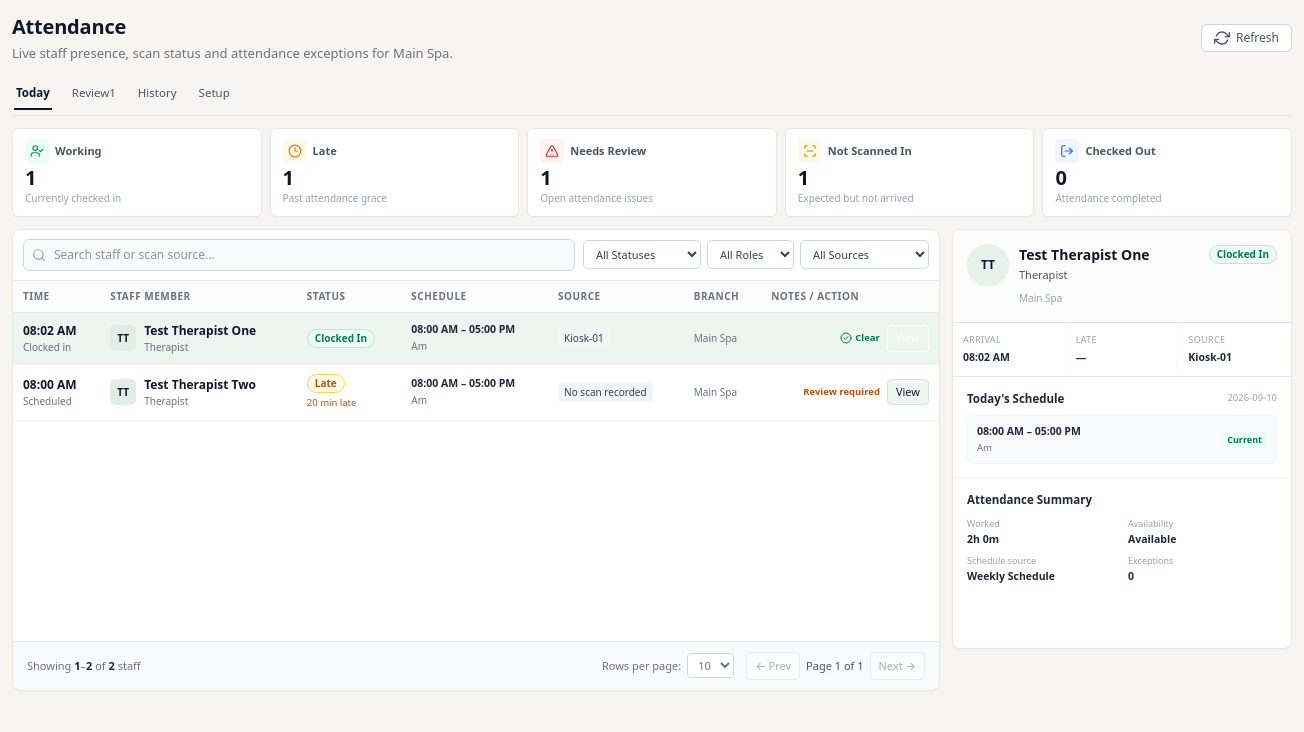
Test: Attendance Today workspace › updates the persistent inspector without navigating away
Click the button with aria-label "View Test Therapist Two" at (908, 392), box [887,379,929,405]
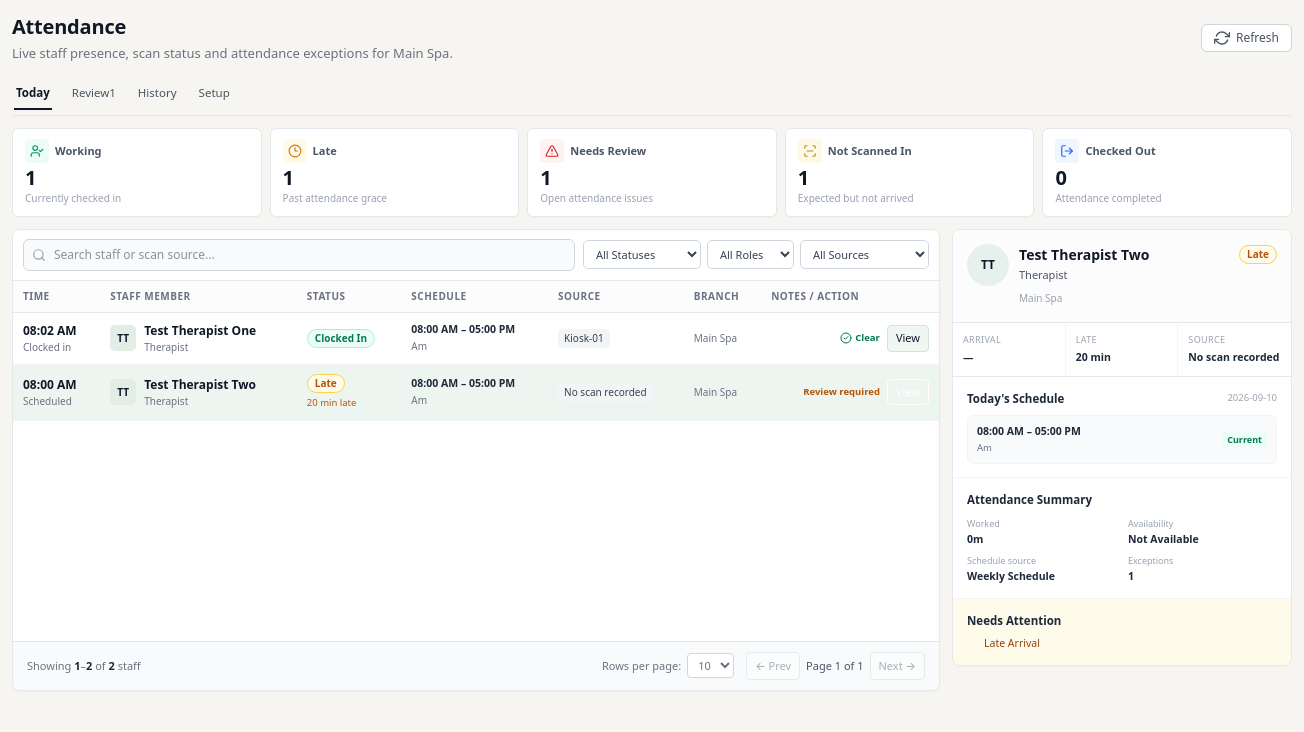
Now the heading "Test Therapist Two" is shown, box [1019,244,1150,265]
Now the list item "Late Arrival" is shown, box [984,636,1040,650]
